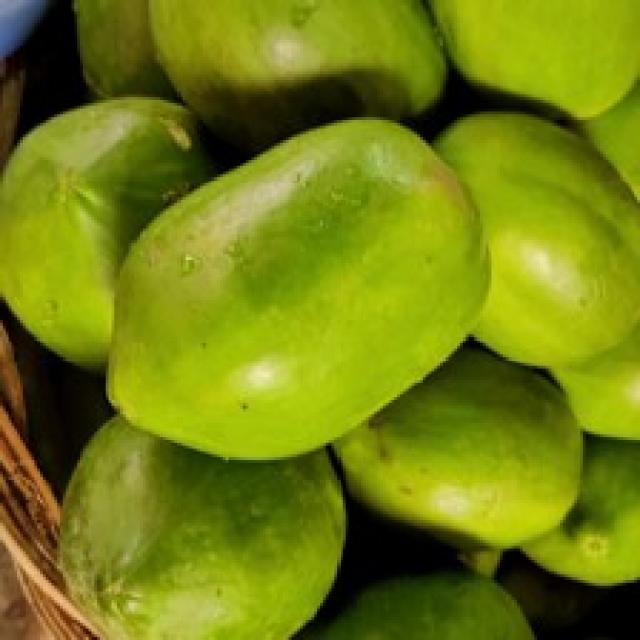Pepaya unrippen: (96, 105, 507, 463)
